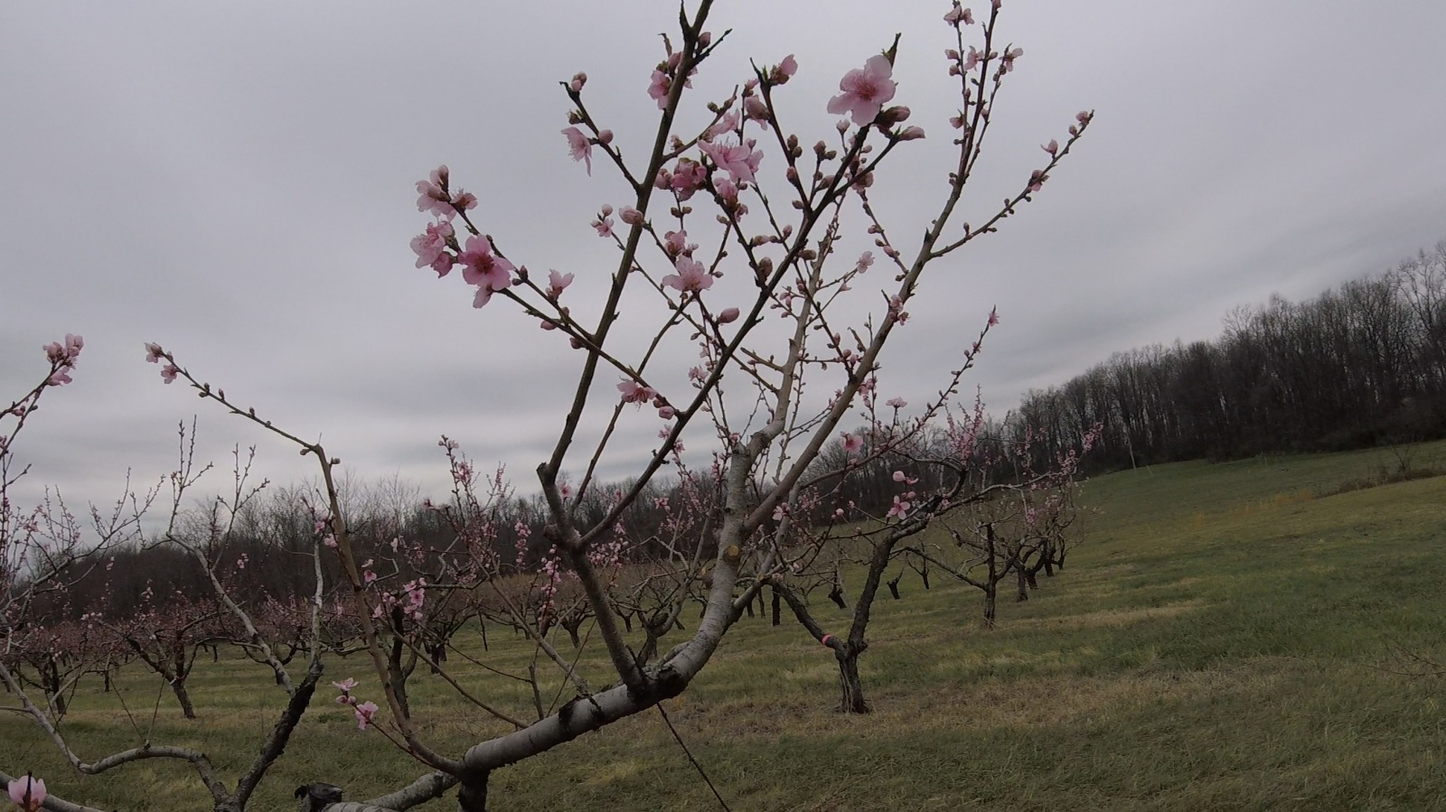flower: (410, 165, 521, 309), (696, 109, 764, 200), (827, 49, 899, 129), (661, 227, 718, 308), (653, 158, 708, 204), (43, 334, 84, 387), (561, 127, 593, 177), (617, 377, 663, 408), (648, 70, 670, 111), (591, 204, 615, 238), (354, 700, 379, 730), (403, 581, 425, 614), (745, 95, 771, 121), (450, 189, 478, 213), (549, 269, 575, 293), (1003, 43, 1024, 72), (594, 130, 615, 159), (950, 110, 971, 138), (619, 206, 647, 227), (8, 776, 29, 804), (887, 496, 911, 520), (774, 55, 798, 78), (965, 46, 986, 71), (840, 432, 864, 453), (944, 0, 962, 26), (856, 251, 876, 274), (31, 777, 48, 804), (897, 126, 926, 141), (145, 343, 164, 364), (162, 364, 180, 385), (333, 677, 359, 691), (887, 294, 905, 313), (570, 74, 587, 94), (689, 365, 709, 382), (1041, 139, 1059, 157), (314, 513, 328, 535), (886, 397, 908, 410), (988, 305, 1000, 327), (721, 308, 740, 321), (659, 406, 676, 420), (893, 471, 911, 484), (324, 534, 338, 547), (364, 571, 377, 585), (705, 378, 710, 385), (748, 89, 754, 94), (677, 218, 681, 224)
